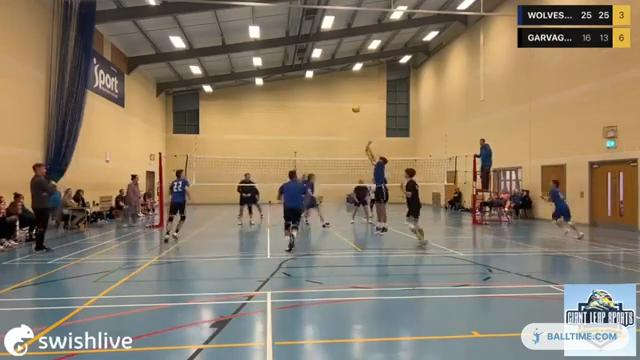alzata: (361, 137, 394, 238)
